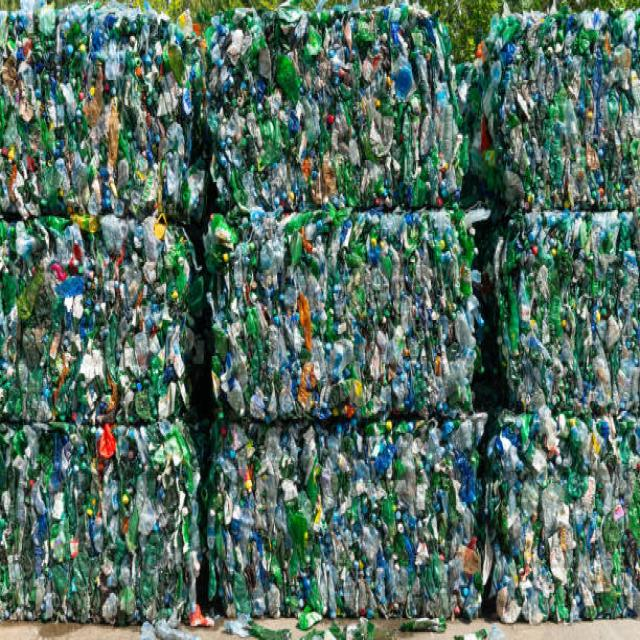trash: (9, 16, 614, 584)
